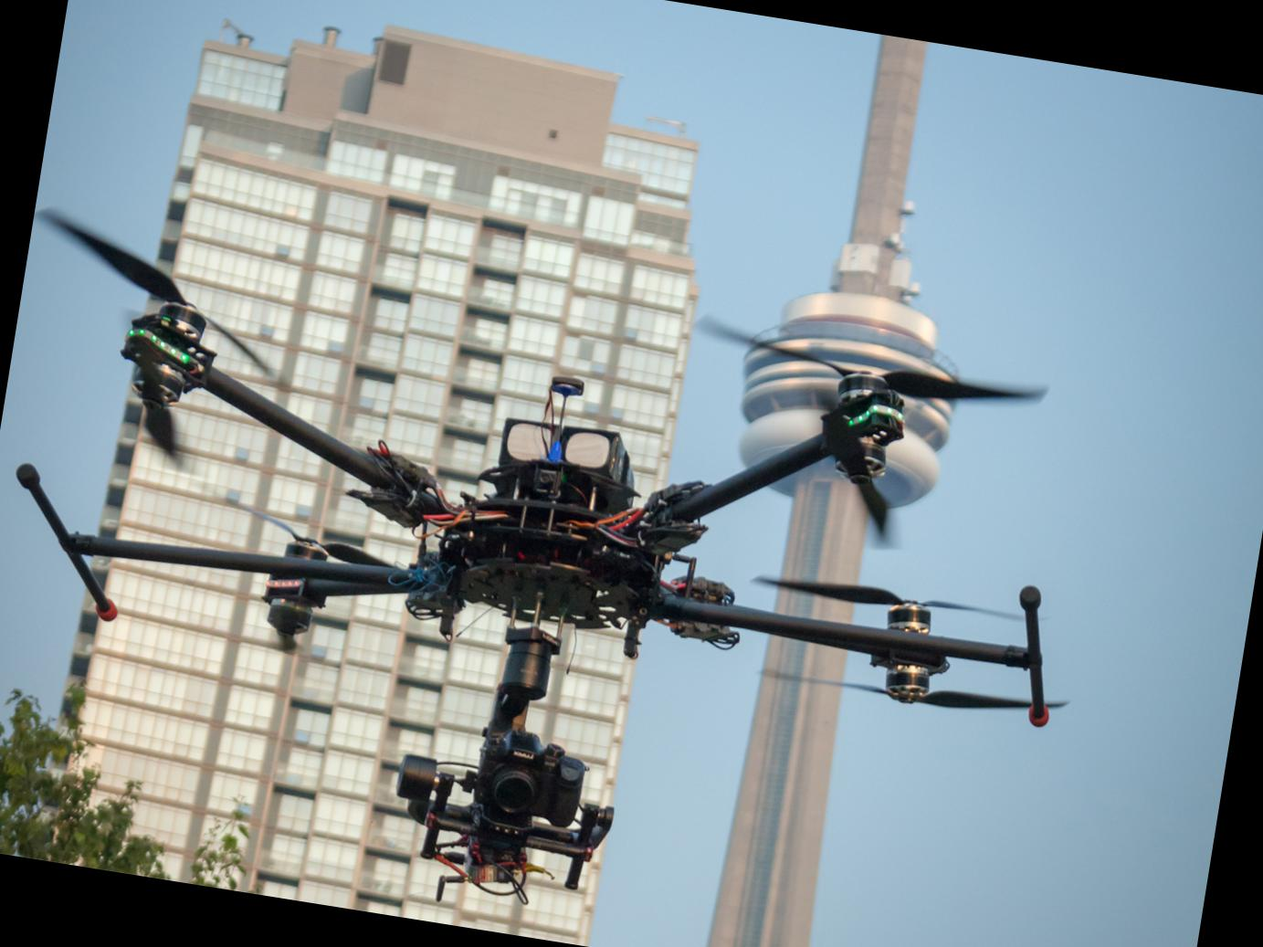drone: (0, 179, 1173, 810)
